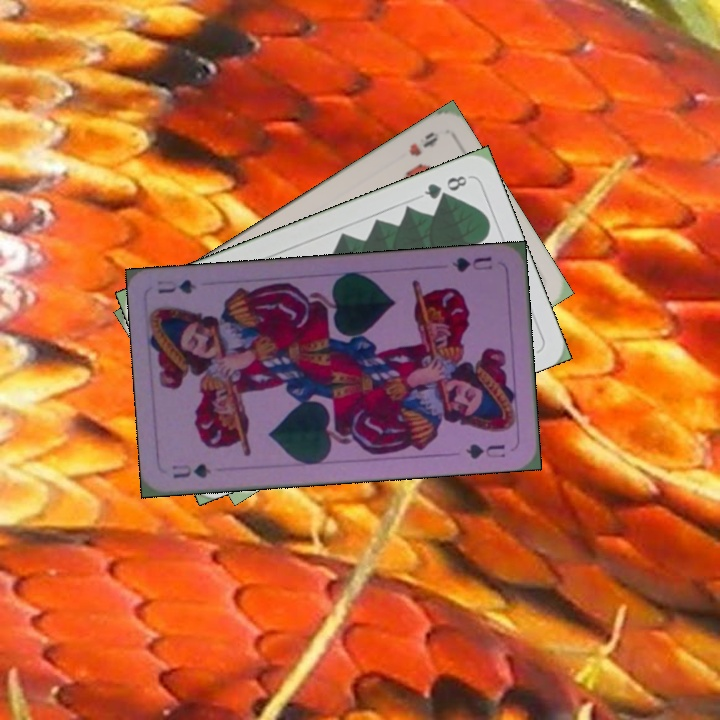G8: (419, 171, 470, 202)
GU: (167, 459, 214, 481), (448, 253, 494, 275)
H9: (405, 127, 442, 159)
